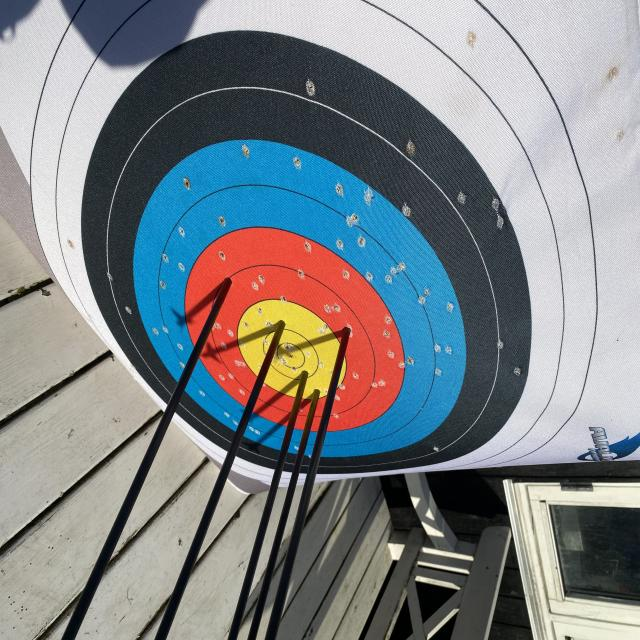Arrow_Red: (334, 302, 368, 358), (216, 254, 240, 314)
Arrow_Yellow: (262, 307, 294, 343), (286, 356, 314, 391), (307, 384, 333, 409)
